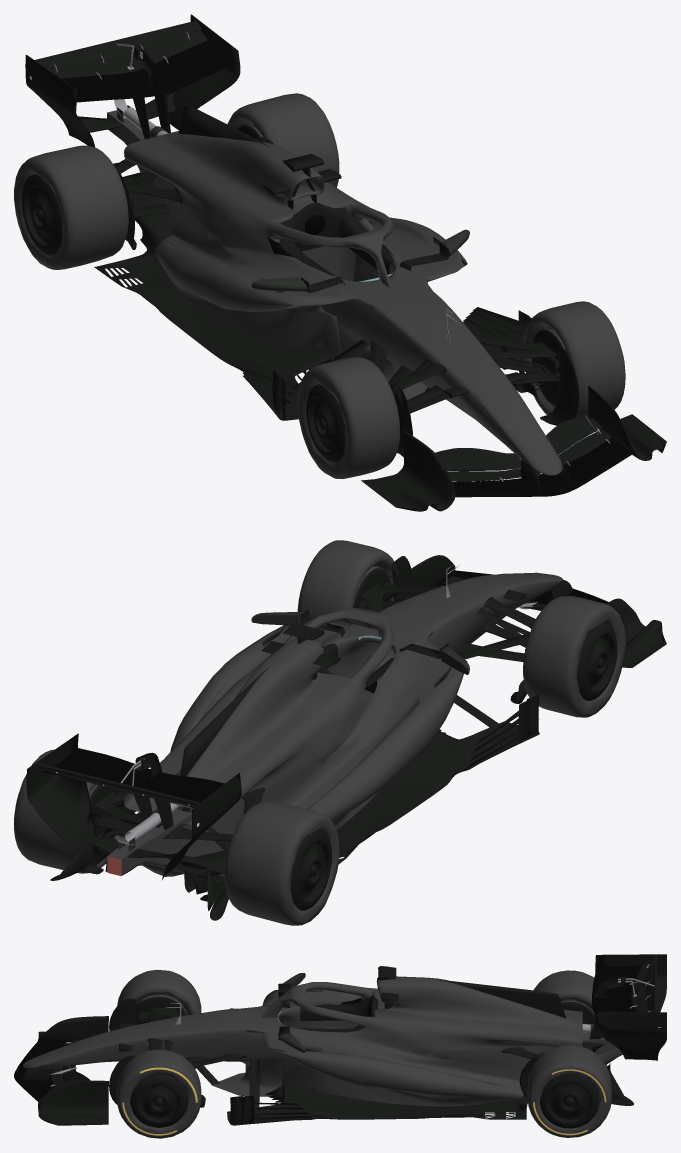
Rendered from monoposto.glb.
3 renders of one model, top to bottom at view 1: azimuth 30°, elevation 25°; view 2: azimuth 150°, elevation 25°; view 3: azimuth 270°, elevation 25°, orthographic. The views are drawn at different scales.
Visible parts, largest first — view 1: FRONT NOSE__0, FRONT NOSE_Carbon Fiber - Plain_0, Body18_Steel - Satin_0; view 2: FRONT NOSE__0, FRONT NOSE_Carbon Fiber - Plain_0, Body18_Steel - Satin_0; view 3: FRONT NOSE__0, FRONT NOSE_Carbon Fiber - Plain_0, Body18_Steel - Satin_0.
Boxes of the visible parts, bbox=[...] form: FRONT NOSE__0: bbox=[14, 93, 625, 479]; FRONT NOSE_Carbon Fiber - Plain_0: bbox=[21, 14, 666, 511]; Body18_Steel - Satin_0: bbox=[54, 32, 609, 481]; FRONT NOSE__0: bbox=[14, 540, 625, 925]; FRONT NOSE_Carbon Fiber - Plain_0: bbox=[26, 555, 666, 920]; Body18_Steel - Satin_0: bbox=[56, 564, 537, 845]; FRONT NOSE__0: bbox=[23, 969, 622, 1138]; FRONT NOSE_Carbon Fiber - Plain_0: bbox=[14, 954, 666, 1135]; Body18_Steel - Satin_0: bbox=[50, 964, 654, 1086].
Size of the model in its own units: 1.73 by 0.9833 by 4.8.
3 materials, 3 textured.
